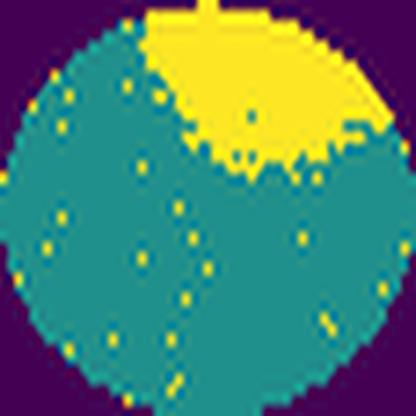Edge-Loc: (140, 0, 398, 184)
